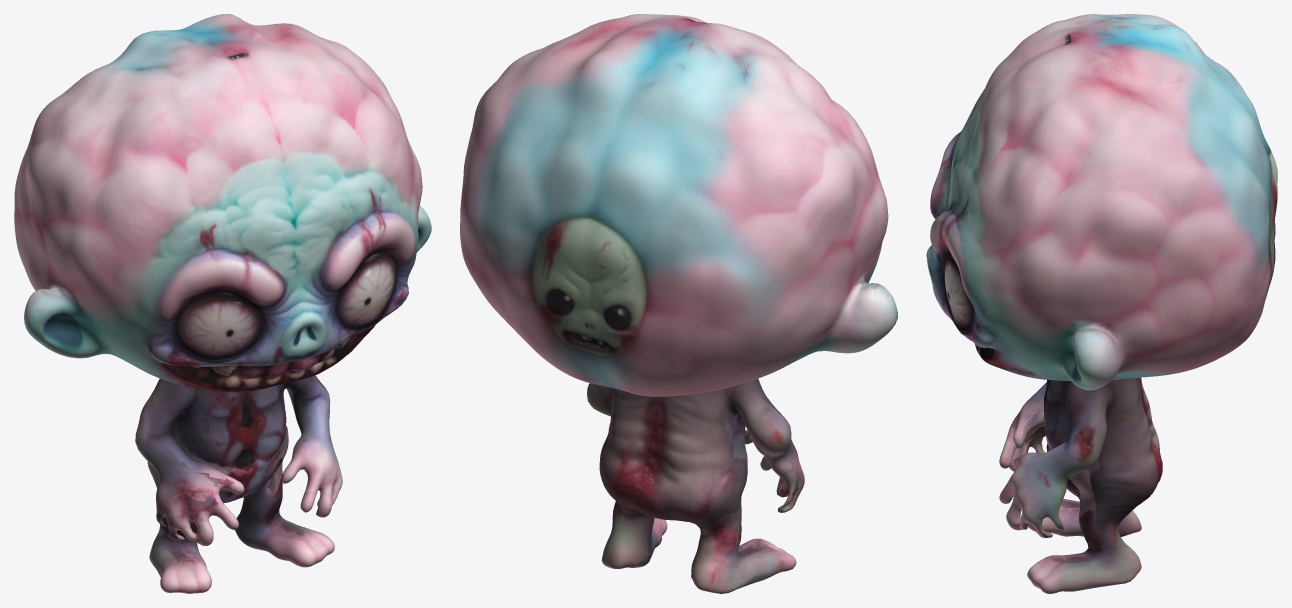
File: _halloween_Um_zumbi__0523105301_.glb
The picture shows the model from 3 angles, left to right: view 1: azimuth 30°, elevation 25°; view 2: azimuth 150°, elevation 25°; view 3: azimuth 270°, elevation 25°; orthographic projection. The views are drawn at different scales.
Size of the model in its own units: 1.62 by 2 by 1.22.
1 material, 1 textured.
